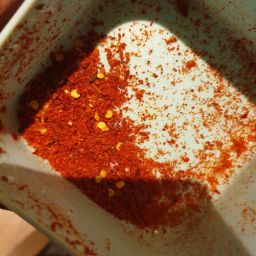Red pepper flakes: (34, 15, 224, 221), (81, 130, 164, 201), (47, 76, 129, 147)
